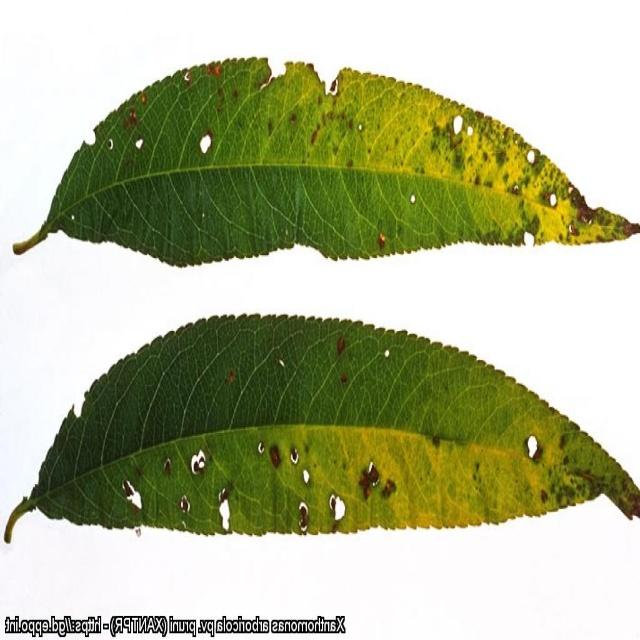shot_hole: (67, 28, 601, 266), (56, 312, 589, 550)
